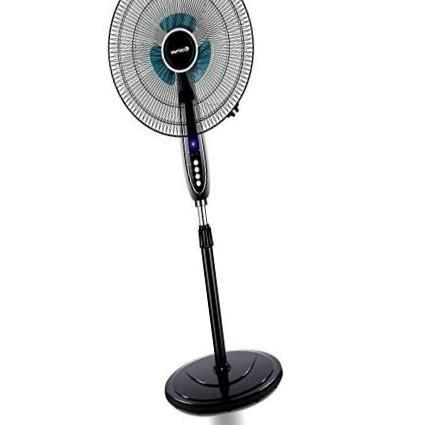fan: (95, 0, 293, 421)
